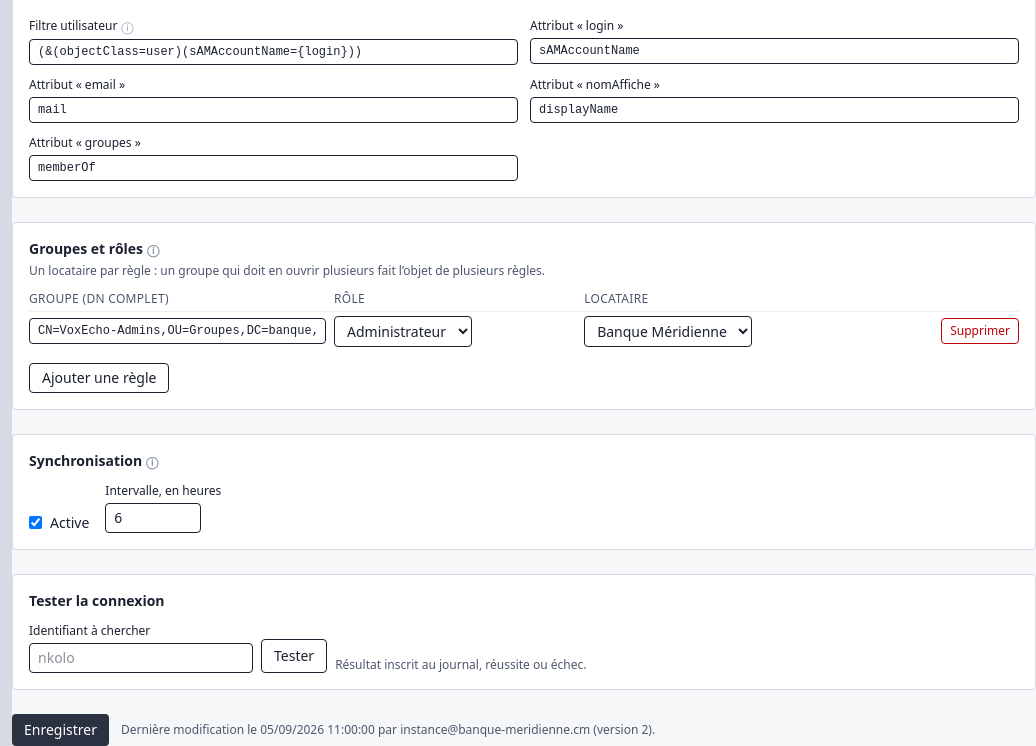
Scenario: onglet Annuaire › dit qu’un utilisateur sans groupe mappé ne pourrait pas se connecter
(page scrolled)
Type "stagiaire" into the field labelled "Identifiant à chercher".
click(141, 658); type("stagiaire")  # box [29, 643, 253, 673]
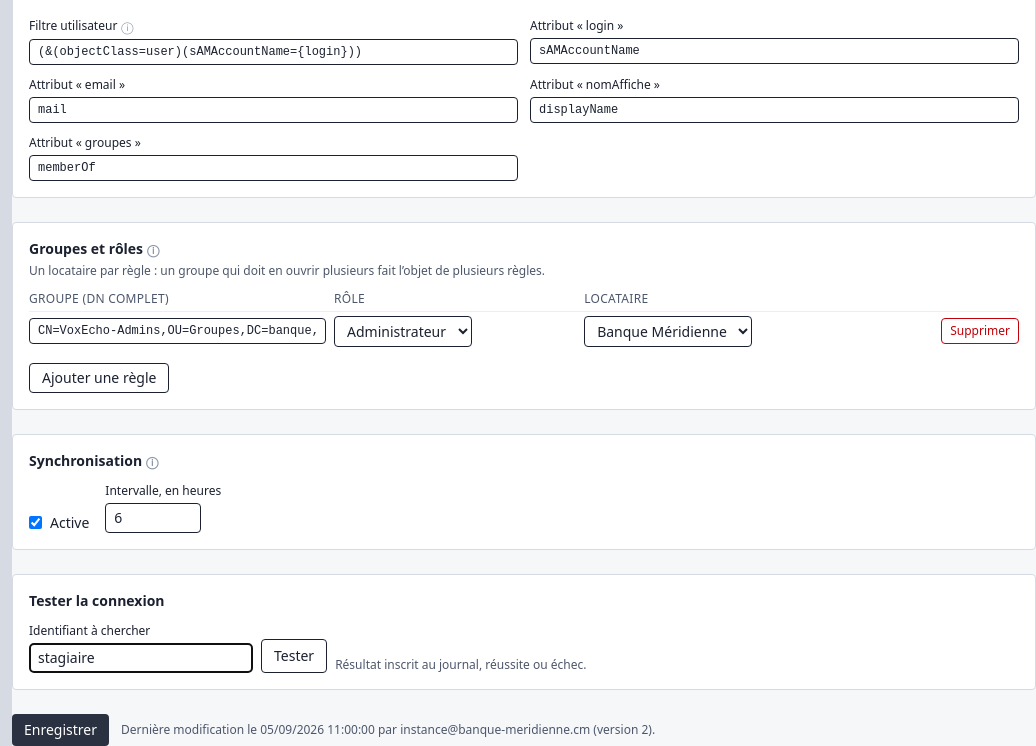
Click the button "Tester".
click(294, 656)  # box [261, 639, 327, 673]
(page scrolled)
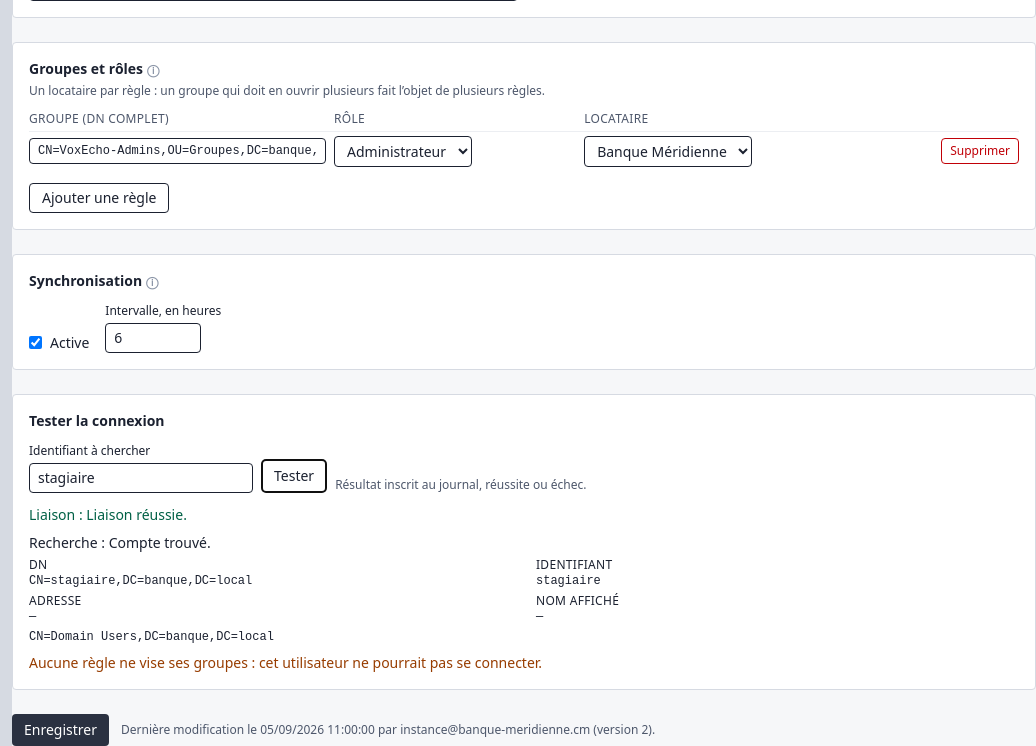
Now the text "ne pourrait pas se connecter" is shown, box [29, 653, 542, 672]
